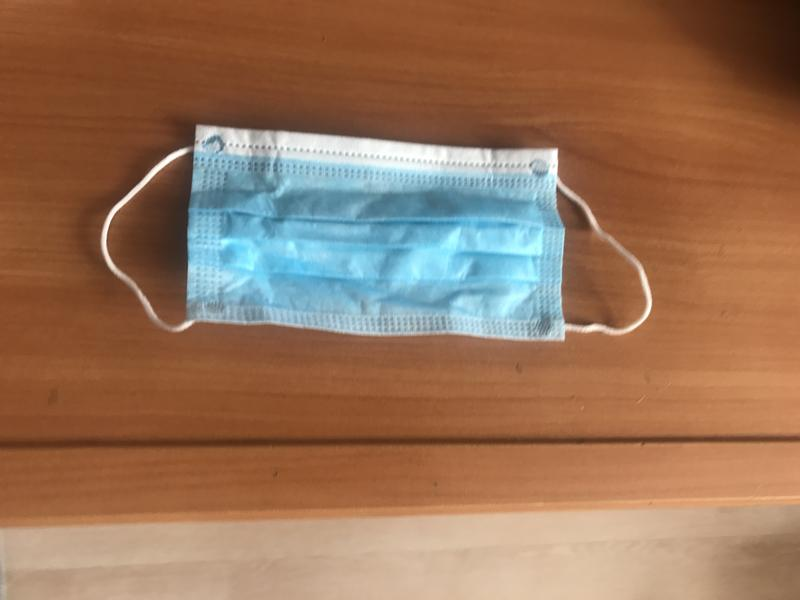medical_mask: (104, 127, 650, 343)
